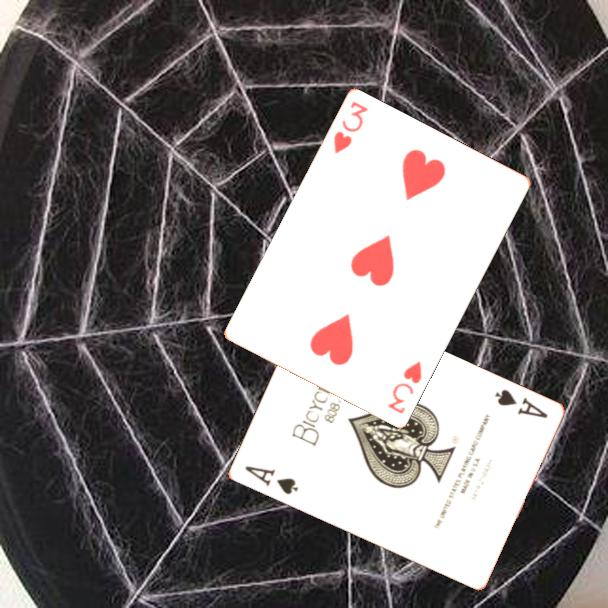h03: (384, 357, 425, 417), (330, 98, 371, 157)
s01: (241, 462, 300, 498), (491, 386, 551, 421)
